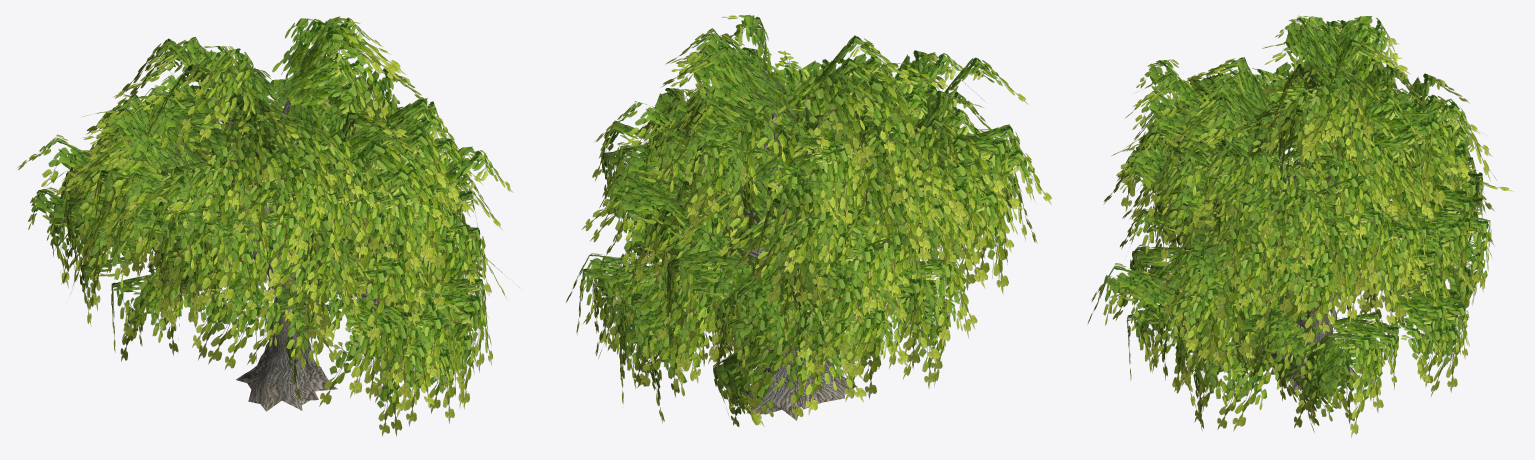
The model's file is realistic-street-trees.glb.
3 renders of one model, left to right at view 1: azimuth 30°, elevation 25°; view 2: azimuth 150°, elevation 25°; view 3: azimuth 270°, elevation 25°, orthographic. The views are drawn at different scales.
Visible parts, largest first — view 1: StreetTreeA_Leaves, StreetTreeB_Leaves, StreetTreeB_Bark, StreetTreeA_Bark; view 2: StreetTreeB_Leaves, StreetTreeA_Leaves, StreetTreeA_Bark, StreetTreeB_Bark; view 3: StreetTreeA_Leaves, StreetTreeB_Leaves, StreetTreeA_Bark.
Part boxes in pixels (<box>): StreetTreeA_Leaves: <box>28,16,519,436</box>; StreetTreeB_Leaves: <box>17,76,502,369</box>; StreetTreeB_Bark: <box>239,179,352,411</box>; StreetTreeA_Bark: <box>205,101,393,404</box>; StreetTreeB_Leaves: <box>566,50,1051,423</box>; StreetTreeA_Leaves: <box>592,15,990,426</box>; StreetTreeA_Bark: <box>731,113,832,420</box>; StreetTreeB_Bark: <box>699,143,856,409</box>; StreetTreeA_Leaves: <box>1088,15,1512,431</box>; StreetTreeB_Leaves: <box>1125,20,1491,437</box>; StreetTreeA_Bark: <box>1225,130,1391,390</box>.
Size of the model in its own units: 13.91 by 12.35 by 14.02.
Materials: 2 (2 with a texture image).
